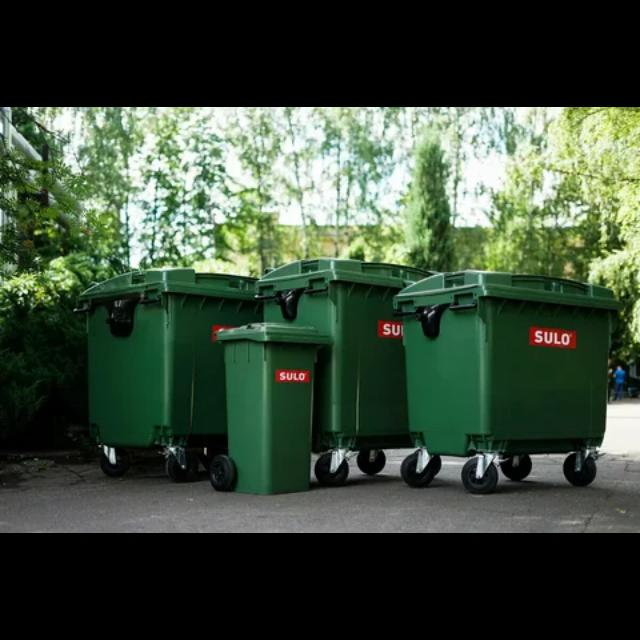Trash_Can_Closed: (392, 269, 626, 455), (261, 256, 436, 451), (80, 267, 262, 447), (215, 320, 332, 494)
